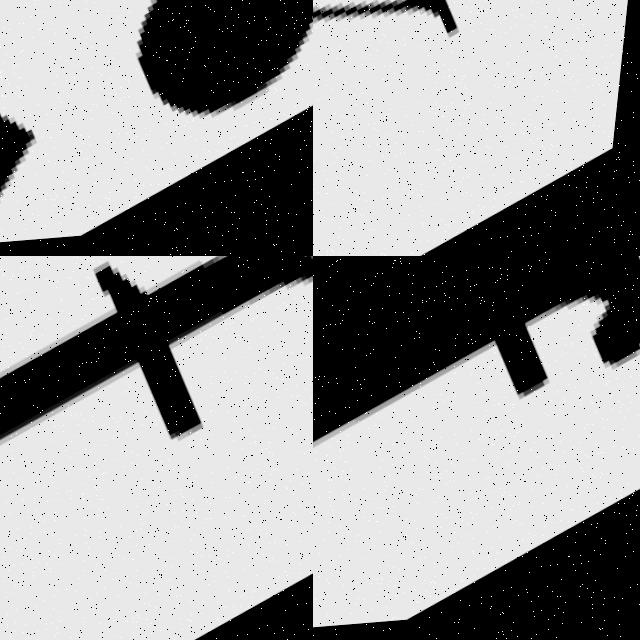C: (0, 0, 313, 256)
F: (313, 256, 640, 628), (0, 256, 313, 617)
K: (313, 0, 640, 254)
